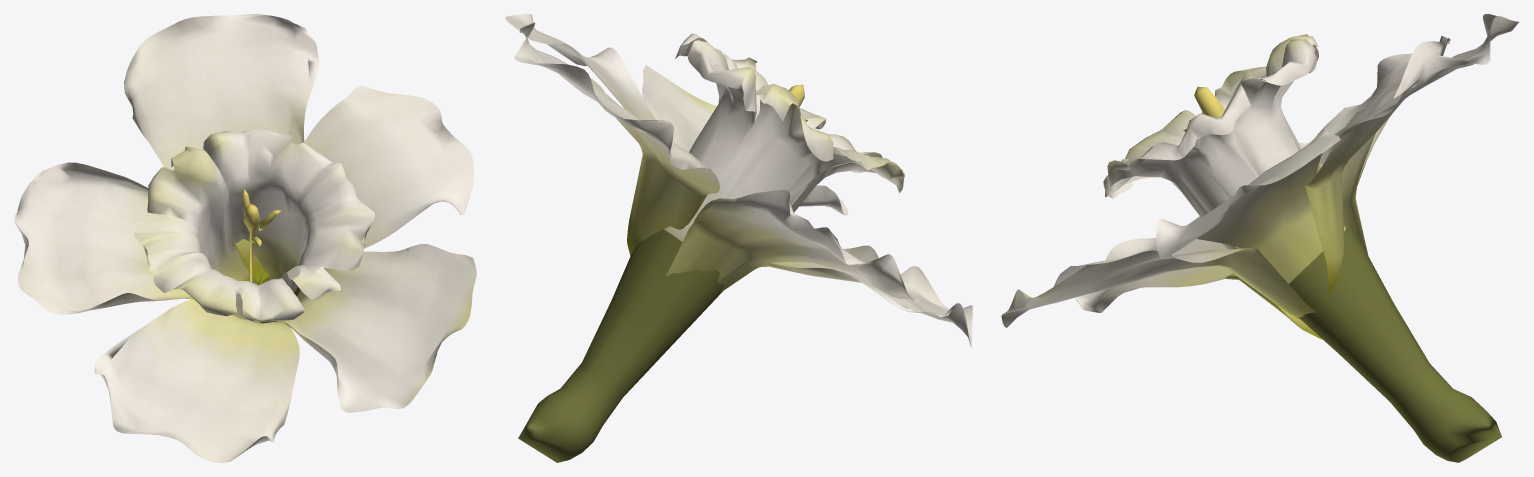
3 renders of one model, left to right at view 1: azimuth 30°, elevation 25°; view 2: azimuth 150°, elevation 25°; view 3: azimuth 270°, elevation 25°, orthographic. The views are drawn at different scales.
Parts seen in each view (by area): view 1: G-Ellipse164 70% 70% 70% 70%.009; view 2: G-Ellipse164 70% 70% 70% 70%.009; view 3: G-Ellipse164 70% 70% 70% 70%.009.
Part boxes in pixels (x1,y1,x2,y2): G-Ellipse164 70% 70% 70% 70%.009: (14,14,476,462); G-Ellipse164 70% 70% 70% 70%.009: (505,14,972,462); G-Ellipse164 70% 70% 70% 70%.009: (1001,14,1518,462).
Bounding box in the file's own units: 1.17 × 0.9931 × 1.1.
3 materials, 1 textured.
